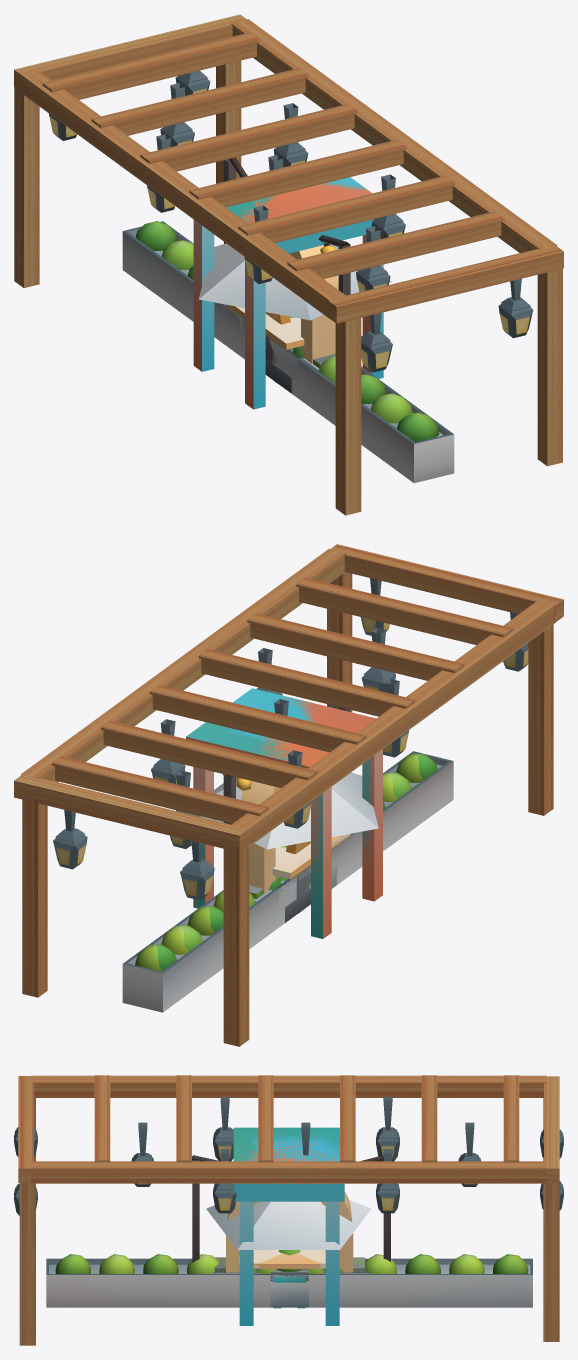
Rendered from Food_Court_Sitting_Area_Modular_Assets.fbx.
3 renders of one model, top to bottom at view 1: azimuth 30°, elevation 25°; view 2: azimuth 150°, elevation 25°; view 3: azimuth 270°, elevation 25°, orthographic. The views are drawn at different scales.
Parts seen in each view (by area): view 1: FC_Pergola, FC_Planter_06, FC_Tent_01, FC_Tent_02, FC_Umbrelaa, FC_Entrance_Gate, FC_Light_Bulb_Pole, FC_Table_02; view 2: FC_Pergola, FC_Planter_06, FC_Tent_01, FC_Tent_03, FC_Umbrelaa, FC_Entrance_Gate, FC_Tent_02, FC_Table_02; view 3: FC_Pergola, FC_Planter_06, FC_Tent_02, FC_Umbrelaa, FC_Tent_03, FC_Entrance_Gate, FC_Light_Bulb_Pole, FC_Planter_04, FC_Table_04, FC_Tent_01, FC_Table_02, FC_Seater_Planter_01 (+2 smaller).
Part boxes in pixels (x1=…): FC_Pergola: x1=14, y1=14, x2=563, y2=515; FC_Planter_06: x1=122, y1=221, x2=454, y2=483; FC_Tent_01: x1=193, y1=180, x2=372, y2=409; FC_Tent_02: x1=202, y1=177, x2=383, y2=409; FC_Umbrelaa: x1=199, y1=243, x2=391, y2=320; FC_Entrance_Gate: x1=289, y1=245, x2=338, y2=363; FC_Light_Bulb_Pole: x1=224, y1=157, x2=350, y2=295; FC_Table_02: x1=235, y1=306, x2=303, y2=343; FC_Pergola: x1=14, y1=544, x2=563, y2=1046; FC_Planter_06: x1=122, y1=751, x2=453, y2=1012; FC_Tent_01: x1=186, y1=695, x2=382, y2=938; FC_Tent_03: x1=186, y1=722, x2=371, y2=938; FC_Umbrelaa: x1=200, y1=772, x2=378, y2=849; FC_Entrance_Gate: x1=241, y1=781, x2=280, y2=893; FC_Tent_02: x1=221, y1=688, x2=315, y2=745; FC_Table_02: x1=272, y1=834, x2=350, y2=879; FC_Pergola: x1=14, y1=1075, x2=563, y2=1345; FC_Planter_06: x1=46, y1=1254, x2=532, y2=1307; FC_Tent_02: x1=233, y1=1127, x2=344, y2=1325; FC_Umbrelaa: x1=206, y1=1199, x2=371, y2=1249; FC_Tent_03: x1=233, y1=1127, x2=339, y2=1183; FC_Entrance_Gate: x1=226, y1=1191, x2=353, y2=1272; FC_Light_Bulb_Pole: x1=192, y1=1155, x2=392, y2=1262; FC_Planter_04: x1=270, y1=1281, x2=308, y2=1307; FC_Table_04: x1=259, y1=1253, x2=320, y2=1268; FC_Tent_01: x1=238, y1=1134, x2=339, y2=1183; FC_Table_02: x1=239, y1=1250, x2=325, y2=1268; FC_Seater_Planter_01: x1=209, y1=1257, x2=369, y2=1273.
Bounding box in the file's own units: 1.32 × 1.2 × 3.3.
